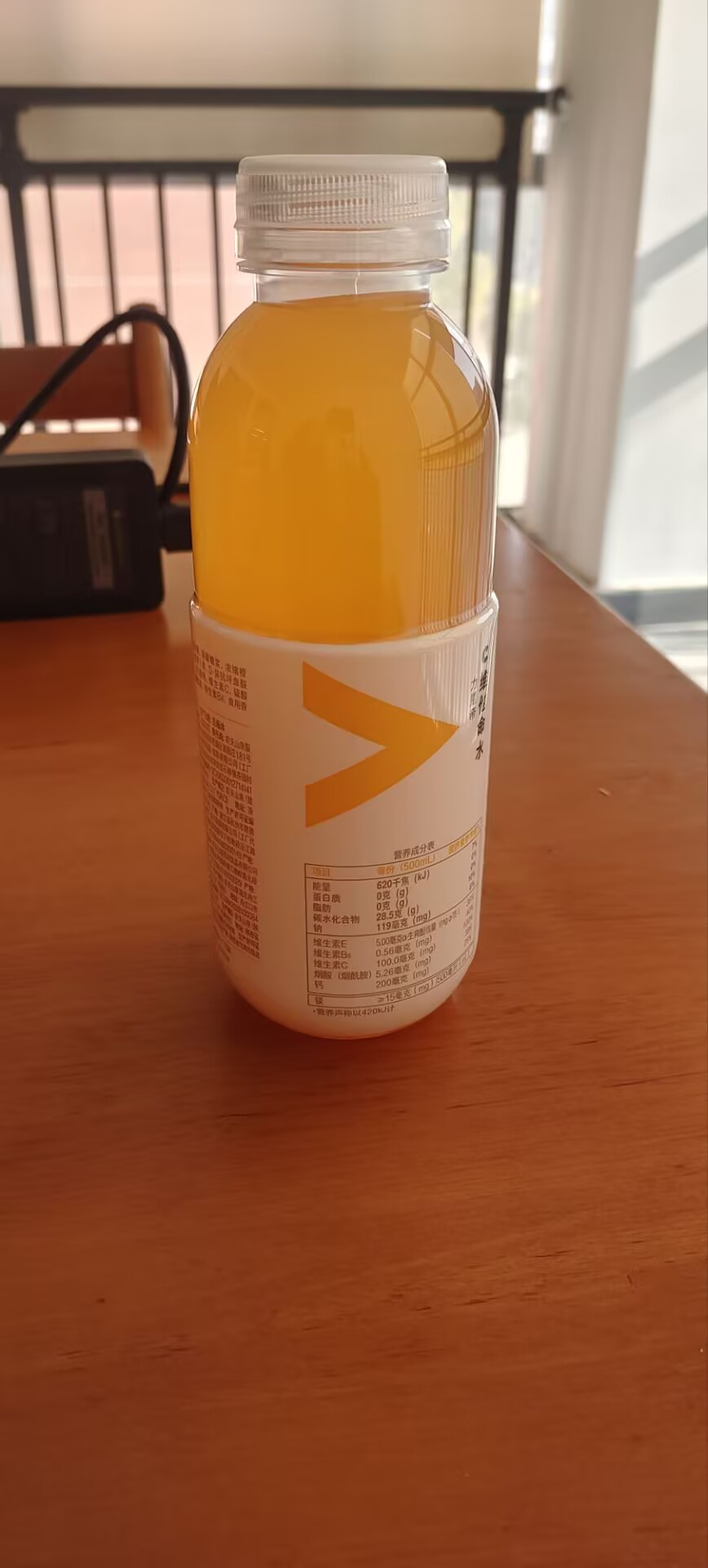redbull: (232, 156, 480, 1026)
